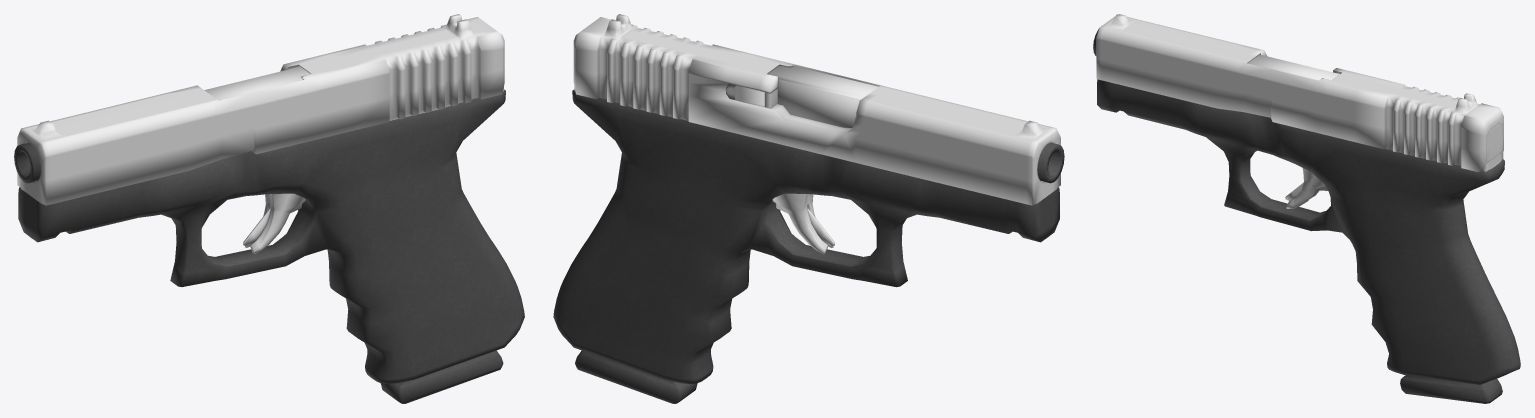
Rendered from austrin_gun_modlelowpoly.glb.
The picture shows the model from 3 angles, left to right: view 1: azimuth 30°, elevation 25°; view 2: azimuth 150°, elevation 25°; view 3: azimuth 330°, elevation 25°; orthographic projection. The views are drawn at different scales.
Parts seen in each view (by area): view 1: Cube.033; view 2: Cube.033; view 3: Cube.033.
Boxes of the visible parts, box(x1,y1,x2,y2) form: Cube.033: box(14, 14, 524, 403); Cube.033: box(553, 14, 1064, 403); Cube.033: box(1093, 14, 1520, 403).
Size of the model in its own units: 0.4835 by 0.3361 by 0.0507.
Materials: 1 (1 with a texture image).
